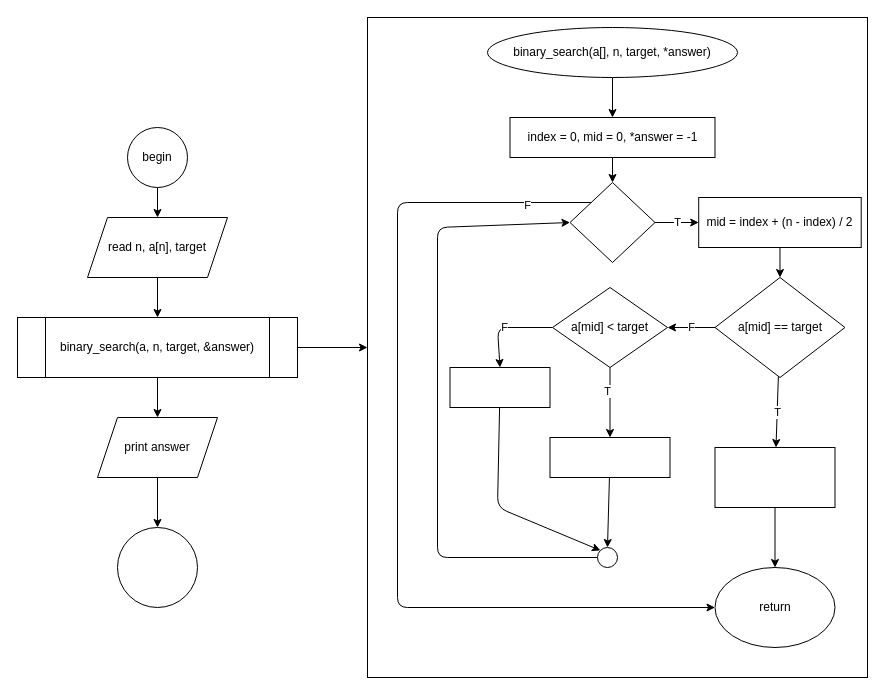
Some shapes in this 885 by 695 pixel diagram are drawn without their labels. The centre of each missing label's shape, as x and y in pixels:
*answer = mid: pixel 774 477
end: pixel 157 567
index < n: pixel 612 222
index = mid + 1: pixel 609 457
n = mid - 1: pixel 499 387
